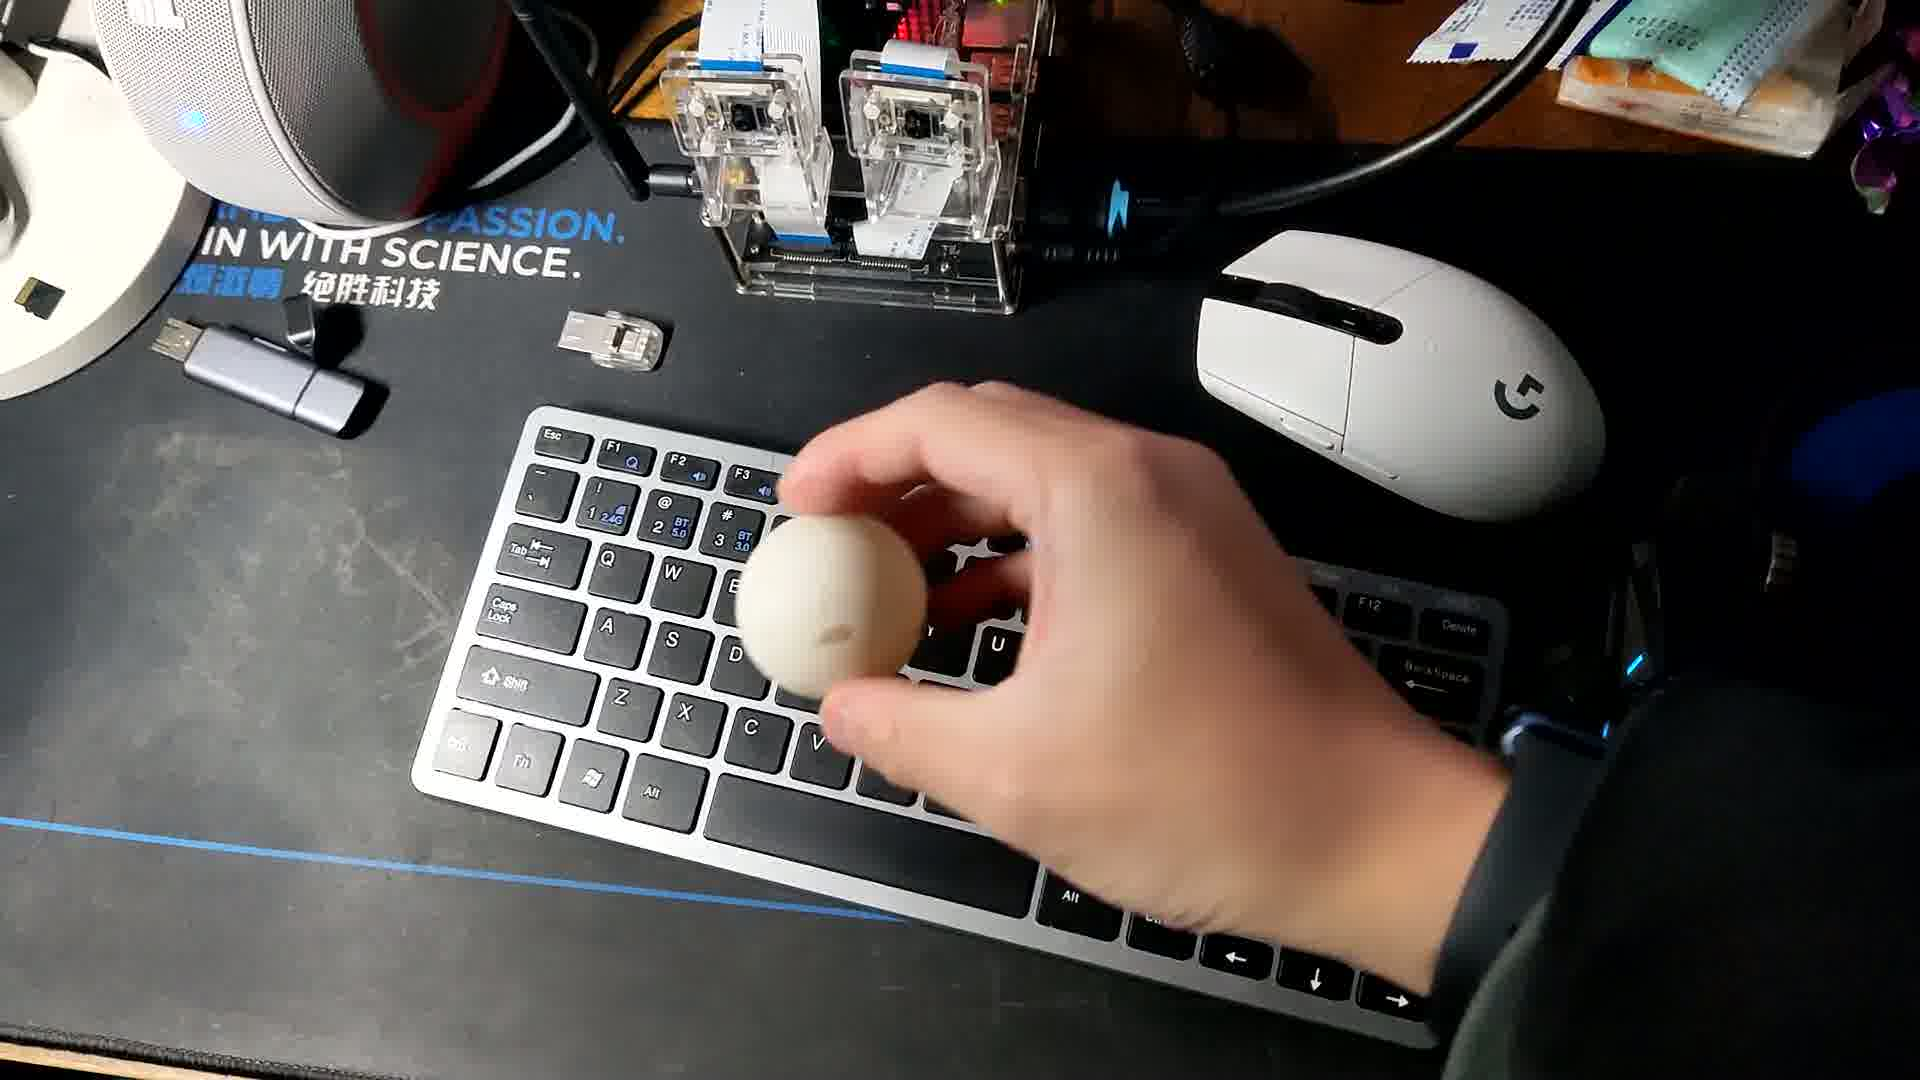Ball: (742, 514, 924, 688)
